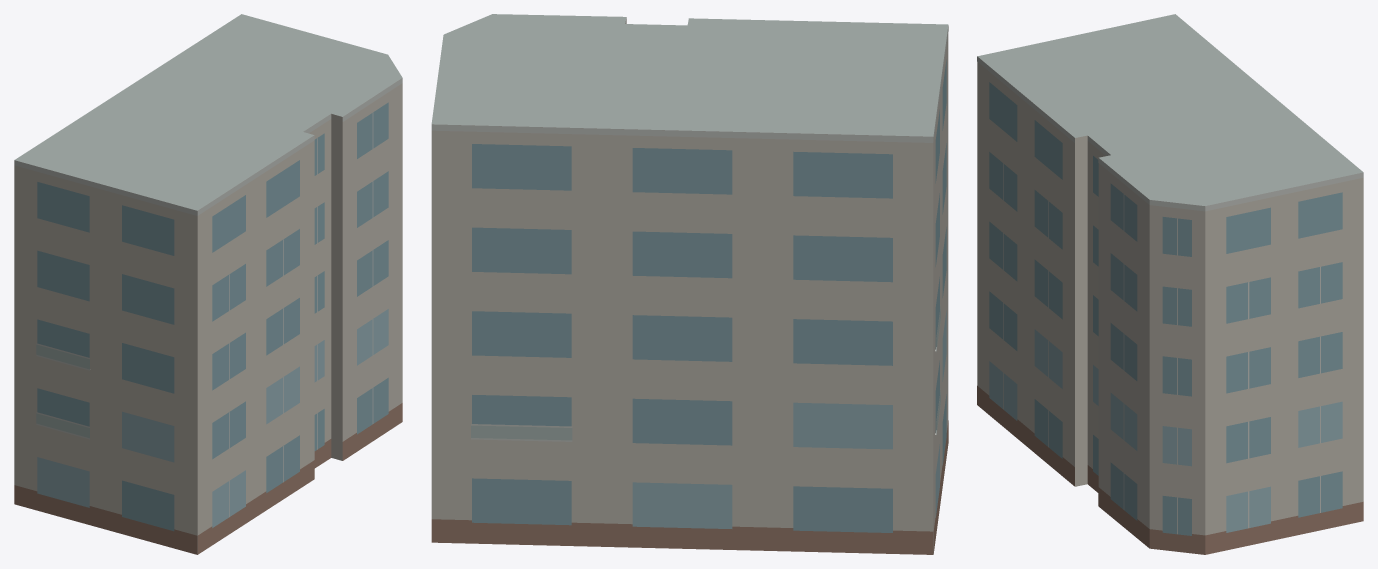
File: survey-upis-32940687.glb
The picture shows the model from 3 angles, left to right: view 1: azimuth 30°, elevation 25°; view 2: azimuth 150°, elevation 25°; view 3: azimuth 270°, elevation 25°; orthographic projection. The views are drawn at different scales.
Parts seen in each view (by area): view 1: survey-upis-32940687.tmp; view 2: survey-upis-32940687.tmp; view 3: survey-upis-32940687.tmp.
Boxes of the visible parts, x1,y1,x2,y2 form: survey-upis-32940687.tmp: (14,14,402,554); survey-upis-32940687.tmp: (431,14,948,554); survey-upis-32940687.tmp: (977,14,1363,554).
Bounding box in the file's own units: 19.09 × 16.15 × 16.23.
